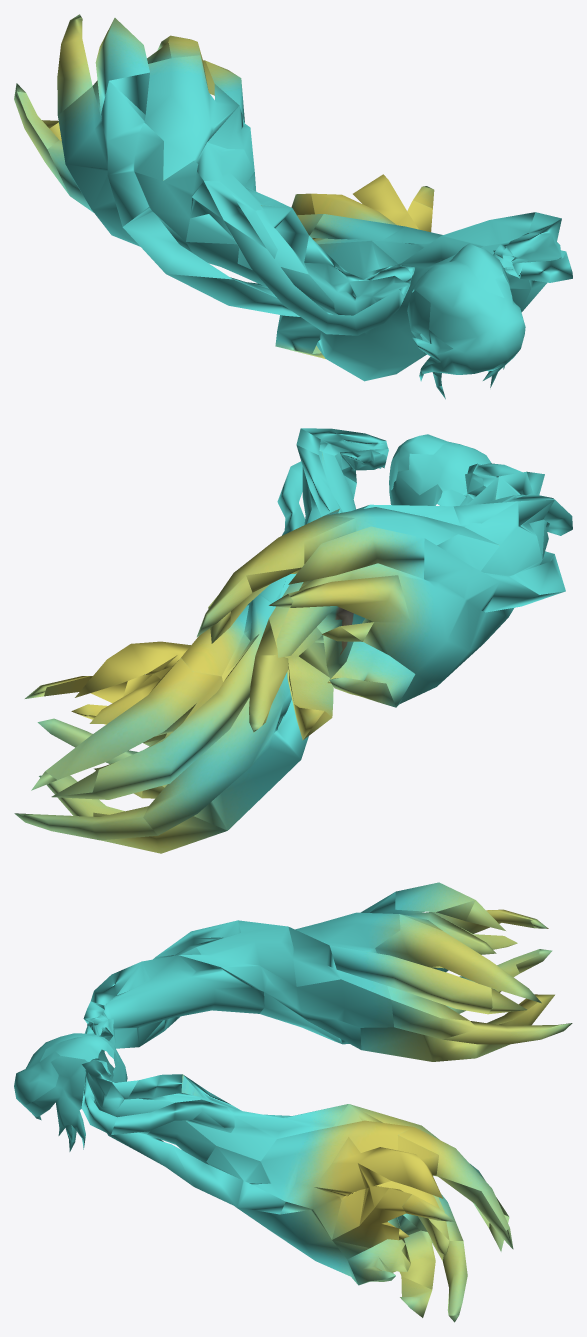
The model's file is hair.obj.
3 renders of one model, top to bottom at view 1: azimuth 30°, elevation 25°; view 2: azimuth 150°, elevation 25°; view 3: azimuth 270°, elevation 25°, orthographic. The views are drawn at different scales.
Parts seen in each view (by area): view 1: ____01; view 2: ____01; view 3: ____01.
Part boxes in pixels (x1,y1,x2,y2): ____01: (14, 14, 572, 399); ____01: (14, 428, 572, 853); ____01: (14, 882, 572, 1322).
Bounding box in the file's own units: 11.28 × 9.6 × 15.18.
Materials: 1 (1 with a texture image).
